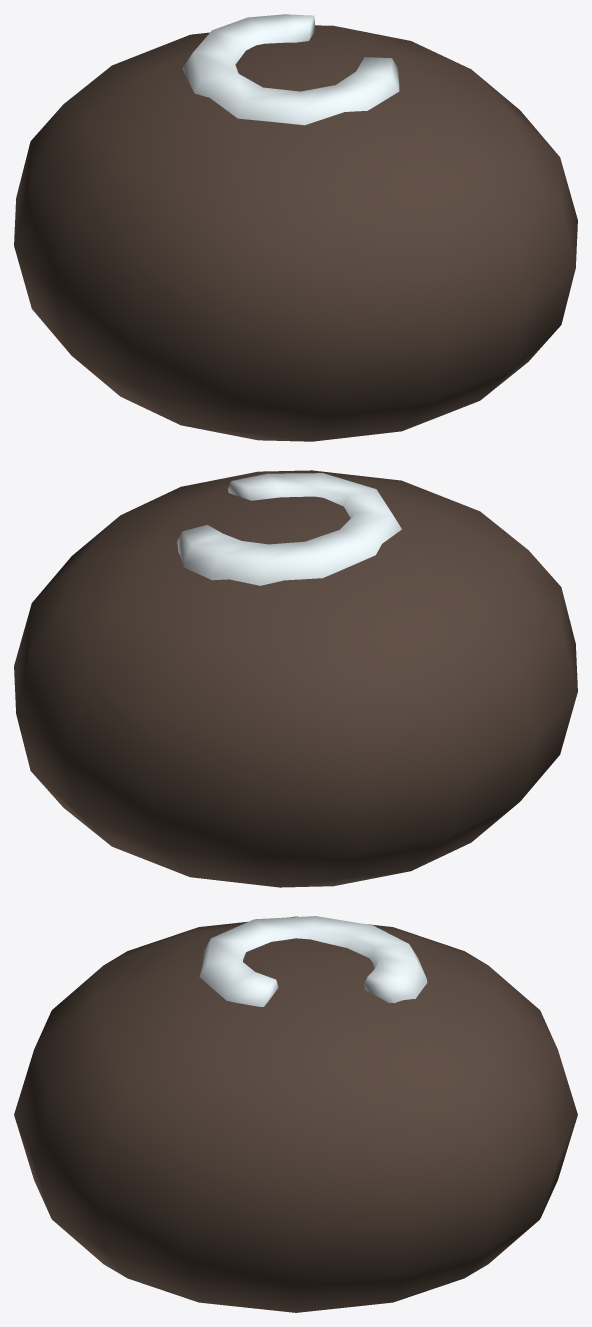
The model's file is candy_assets18.fbx.
3 views of the same model, one above another, from view 1: azimuth 30°, elevation 25°; view 2: azimuth 150°, elevation 25°; view 3: azimuth 270°, elevation 25° (orthographic). The views are drawn at different scales.
Parts seen in each view (by area): view 1: candy_assets18; view 2: candy_assets18; view 3: candy_assets18.
Boxes of the visible parts, x1,y1,x2,y2 form: candy_assets18: [14, 14, 577, 441]; candy_assets18: [14, 470, 577, 887]; candy_assets18: [14, 916, 577, 1312].
Size of the model in its own units: 313 by 208 by 330.
1 material, 1 textured.
